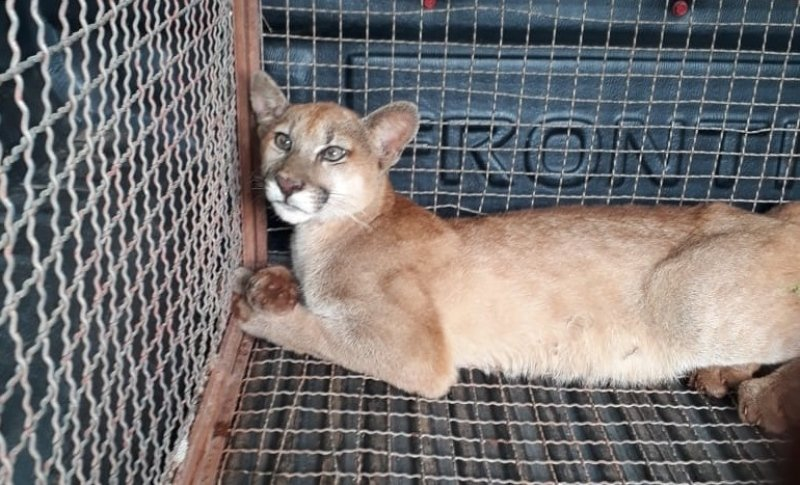OncaParda: (225, 62, 796, 432)
